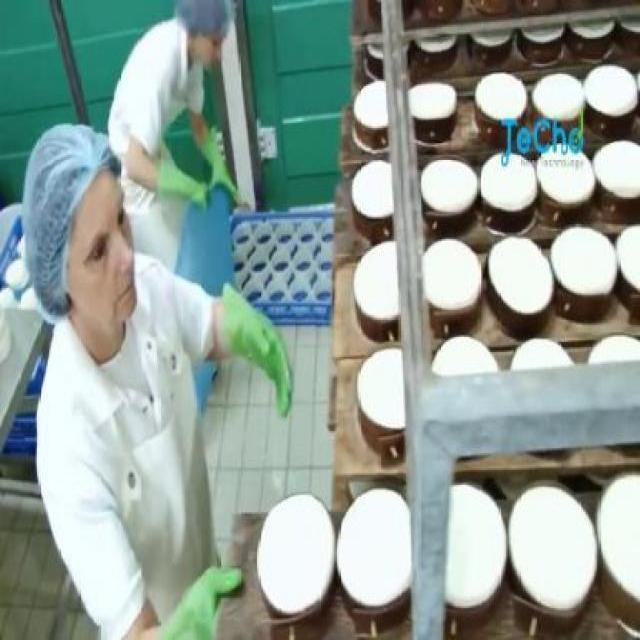gloved_hand: (209, 271, 304, 431), (147, 552, 249, 635), (199, 123, 252, 226), (154, 155, 217, 231)
